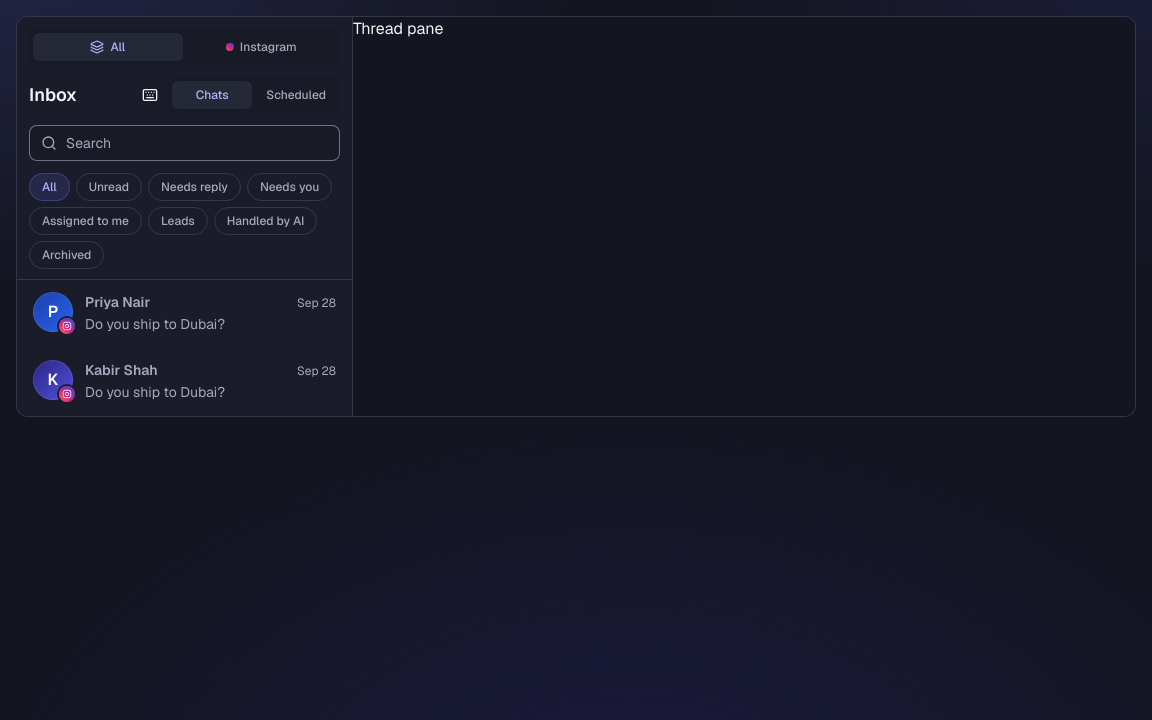
Test case: InboxShell list states (§4.7) › filter empty: All caught up, with Show all
Check: the text "Kabir Shah" is shown, box [85, 361, 158, 379]
What coordinates should you click on to do the following:
click the radio button labelled "Unread"
I would click on:
 (109, 187)
Its box is [76, 173, 142, 201].
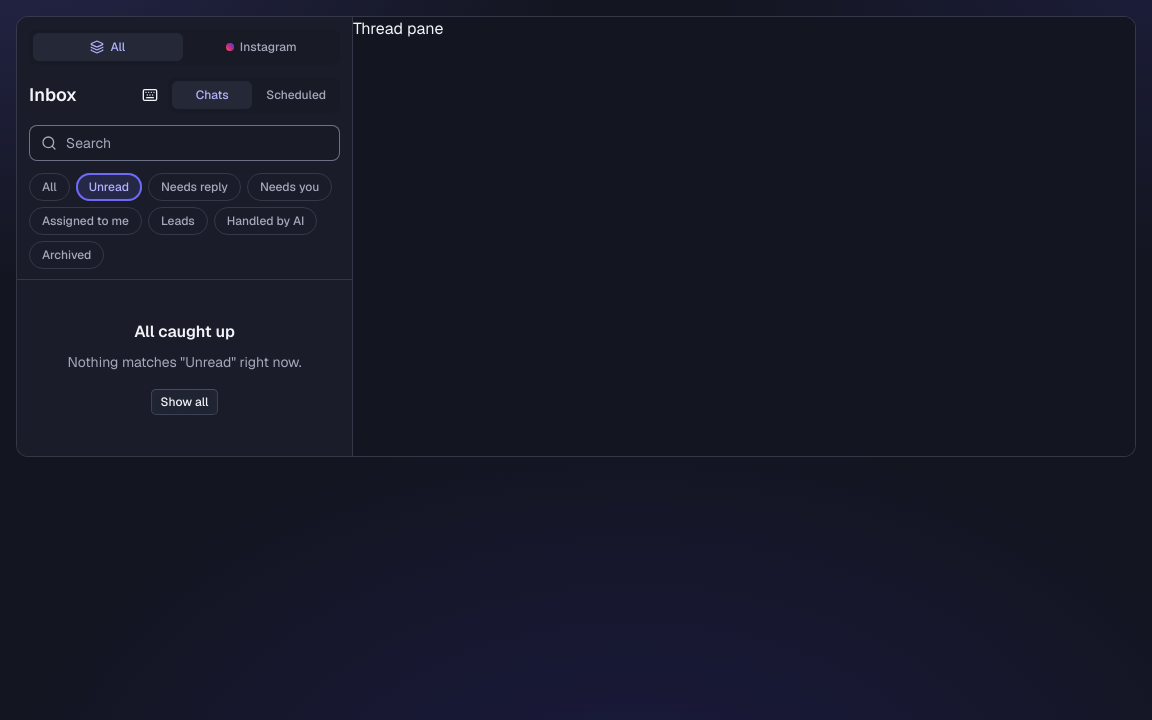
Check: the text "All caught up" is shown, box [134, 320, 235, 344]
Check: the text "Nothing matches \"Unread\" right now." is shown, box [68, 352, 302, 372]
What coordinates should you click on to do the following:
click the button "Show all"
I would click on:
 (184, 402)
Its box is [150, 388, 219, 416].
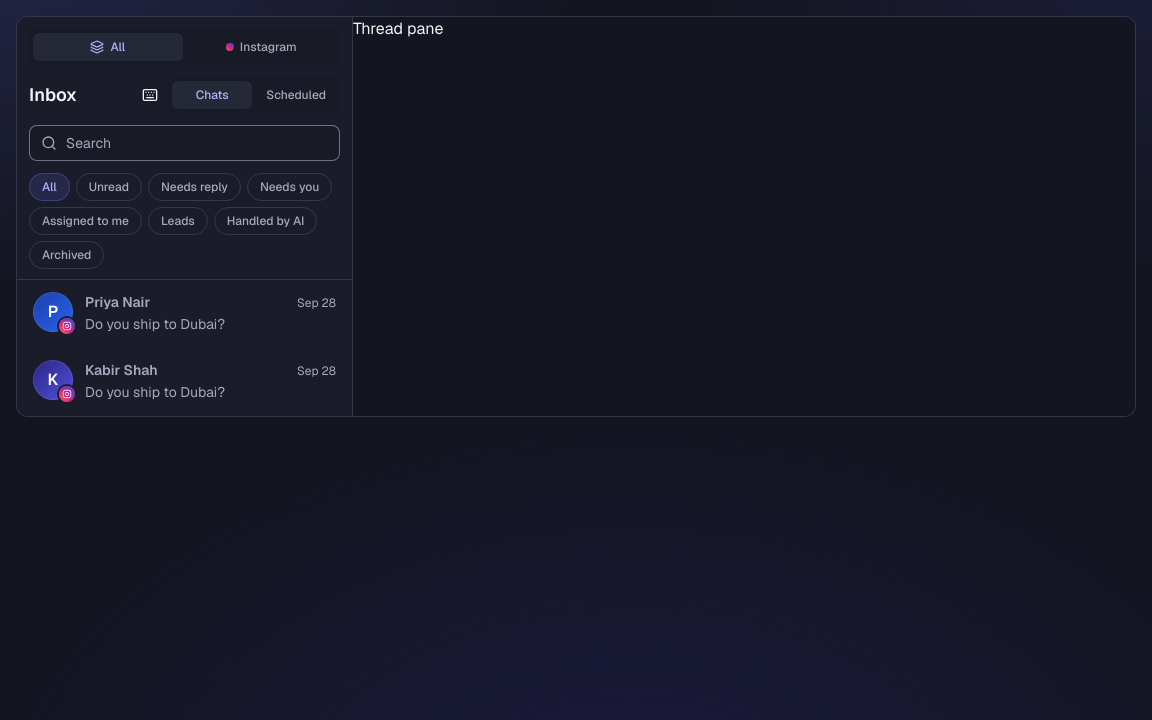
Check: the text "Kabir Shah" is shown, box [85, 361, 158, 379]
